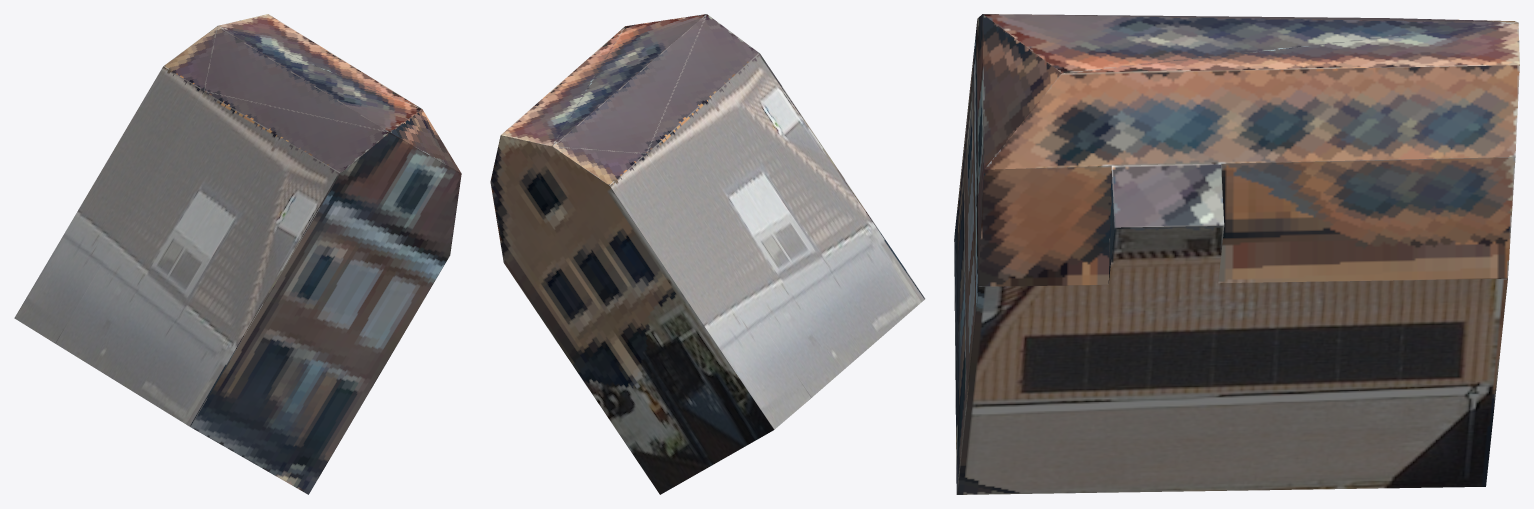
3 views of the same model, side by side, from view 1: azimuth 30°, elevation 25°; view 2: azimuth 150°, elevation 25°; view 3: azimuth 270°, elevation 25° (orthographic). The views are drawn at different scales.
Parts seen in each view (by area): view 1: BAG_0599100000283662 (×3); view 2: BAG_0599100000283662 (×3); view 3: BAG_0599100000283662 (×4).
Part boxes in pixels (x1,y1,x2,y2): BAG_0599100000283662 (×3): (14,14,461,494); BAG_0599100000283662 (×3): (490,14,925,494); BAG_0599100000283662 (×4): (954,14,1519,494).
Bounding box in the file's own units: 11.01 × 11.24 × 10.32.
5 materials, 5 textured.
